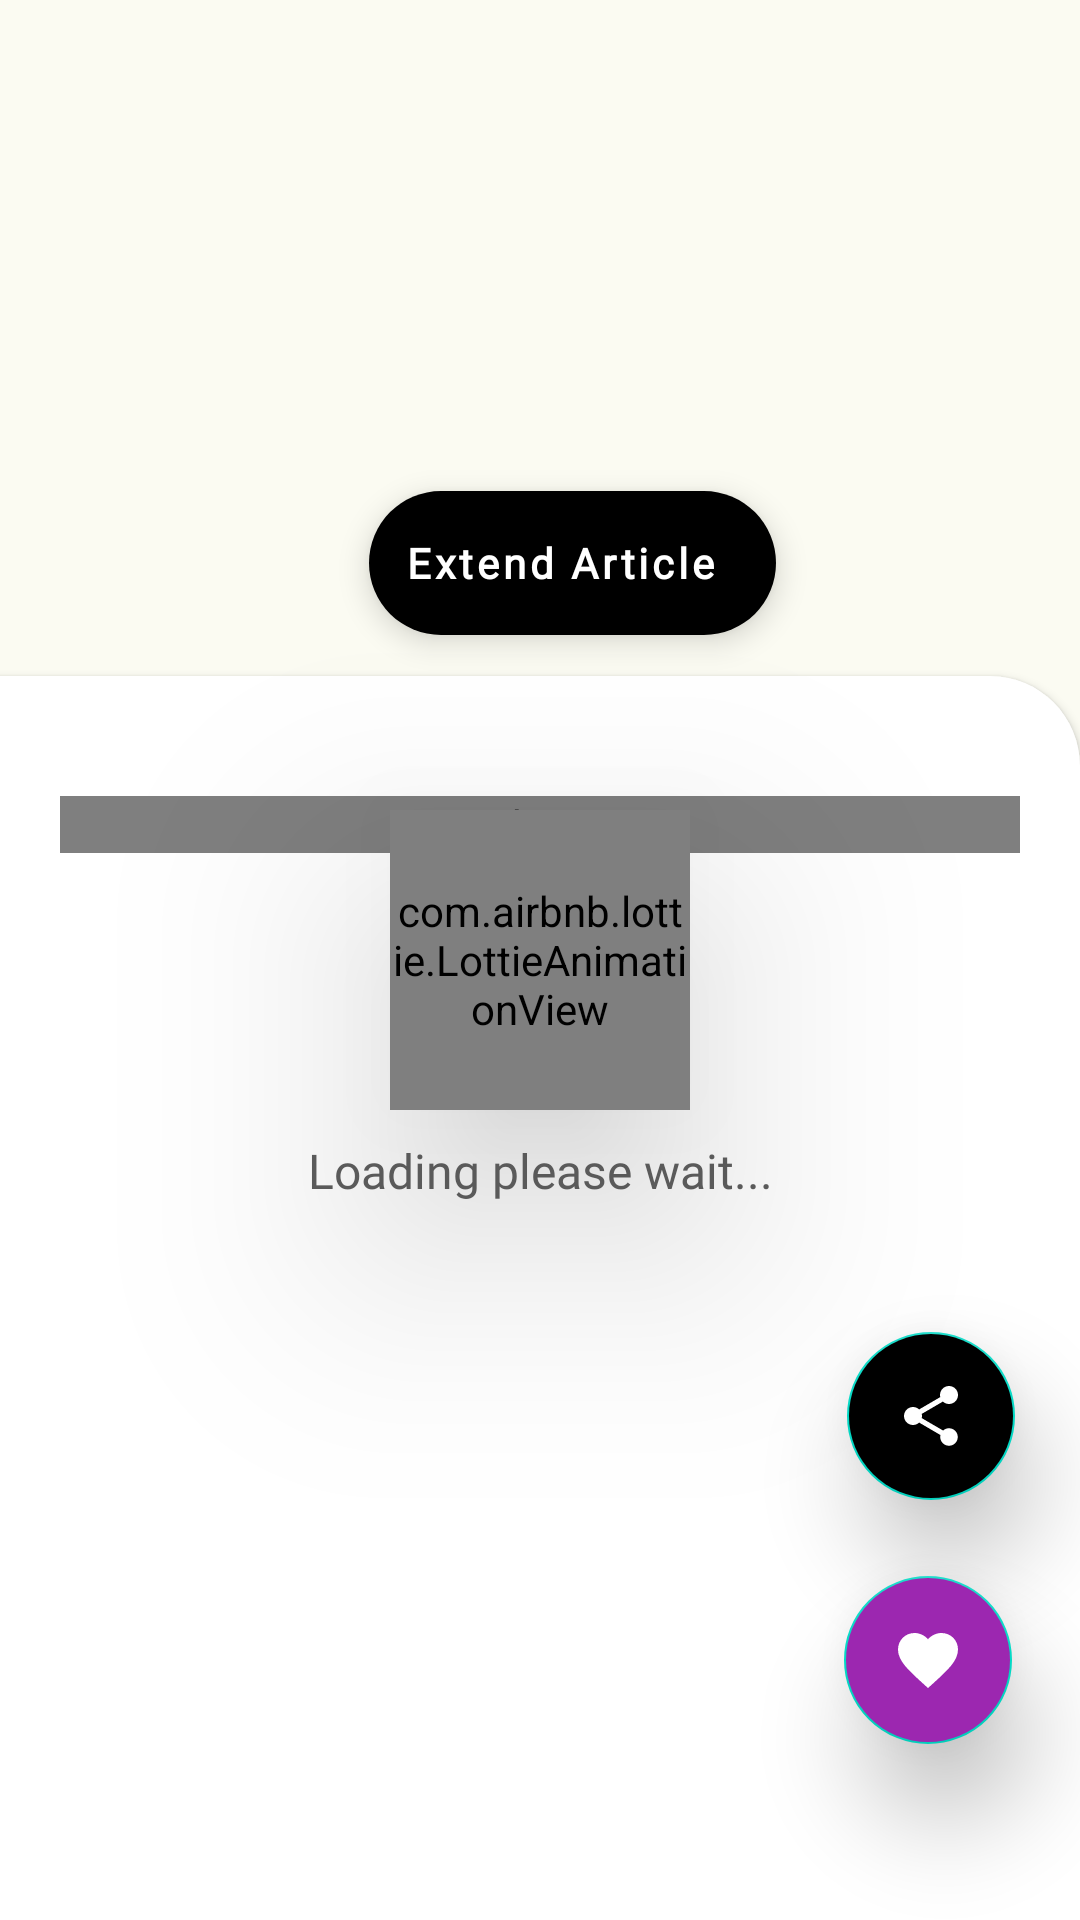

Icons on this 1080×1920 Android screen, each with its box as (x1, y1, x2, y2):
favorite: (844, 1576, 1012, 1744)
share: (847, 1332, 1015, 1500)
